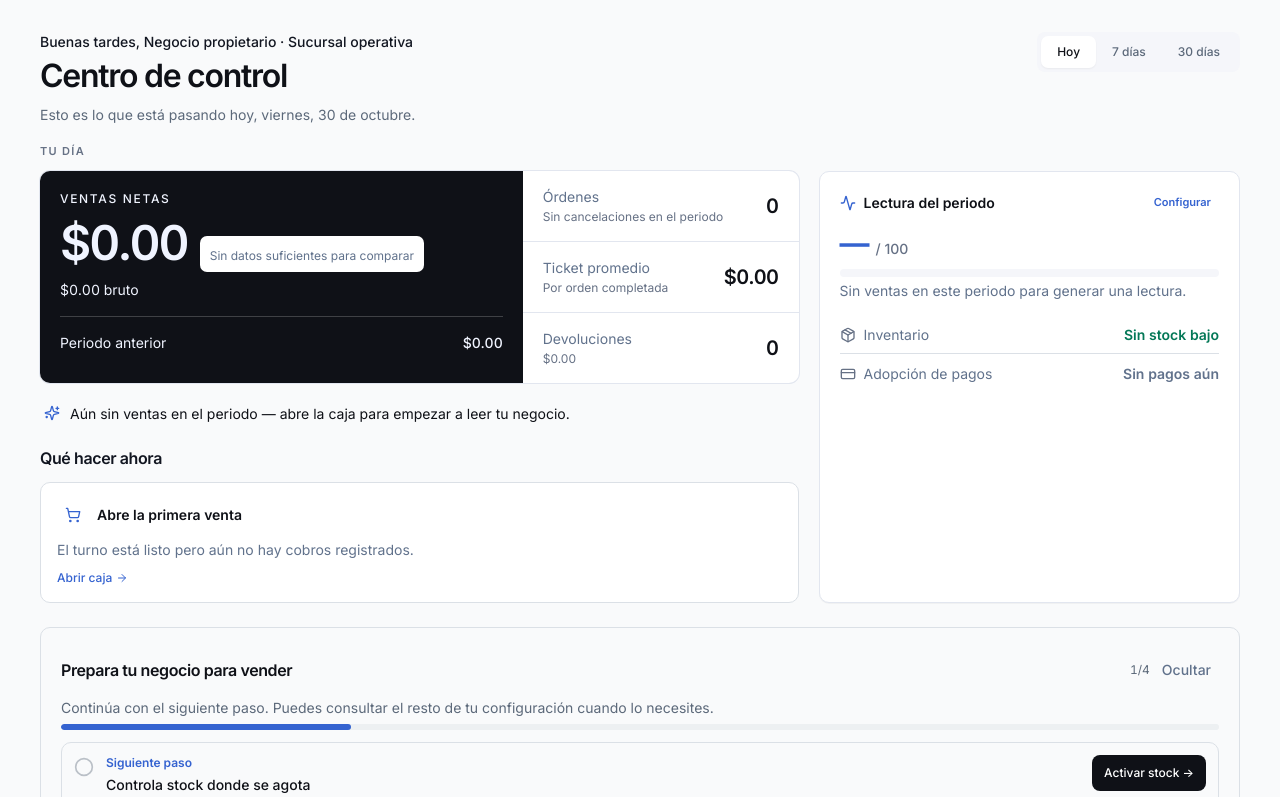
Test case: owner dashboard journey › advances only when updated backend completion or existing real signals complete the current step
Click the radio button labelled "7 días" at coordinates (1129, 52), box [1096,36,1162,68]
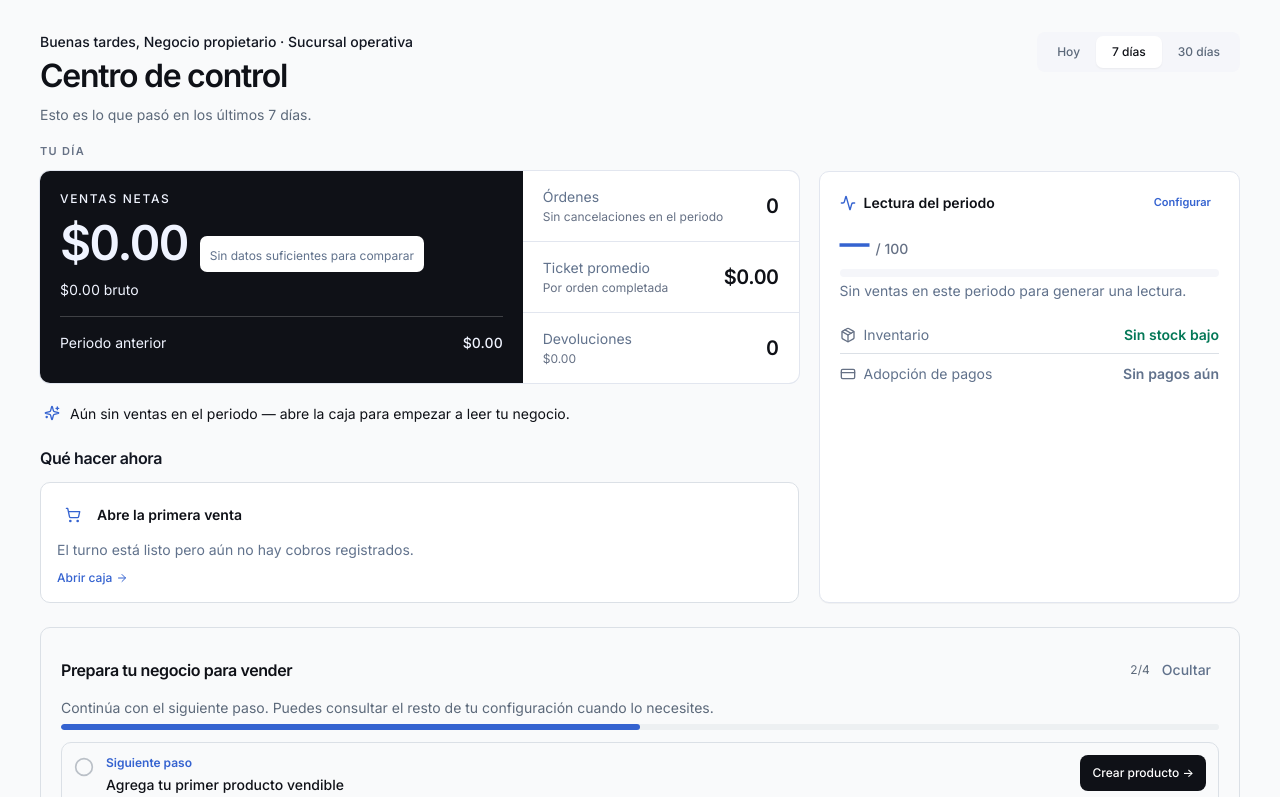
Result: the text "2/4" is shown at [1130,662,1150,678]
